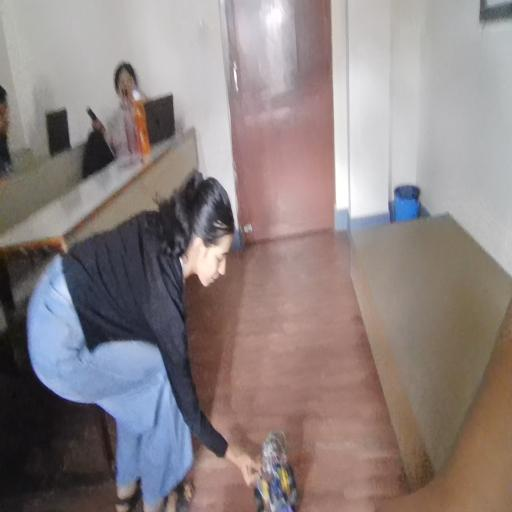car: (256, 440, 304, 506)
